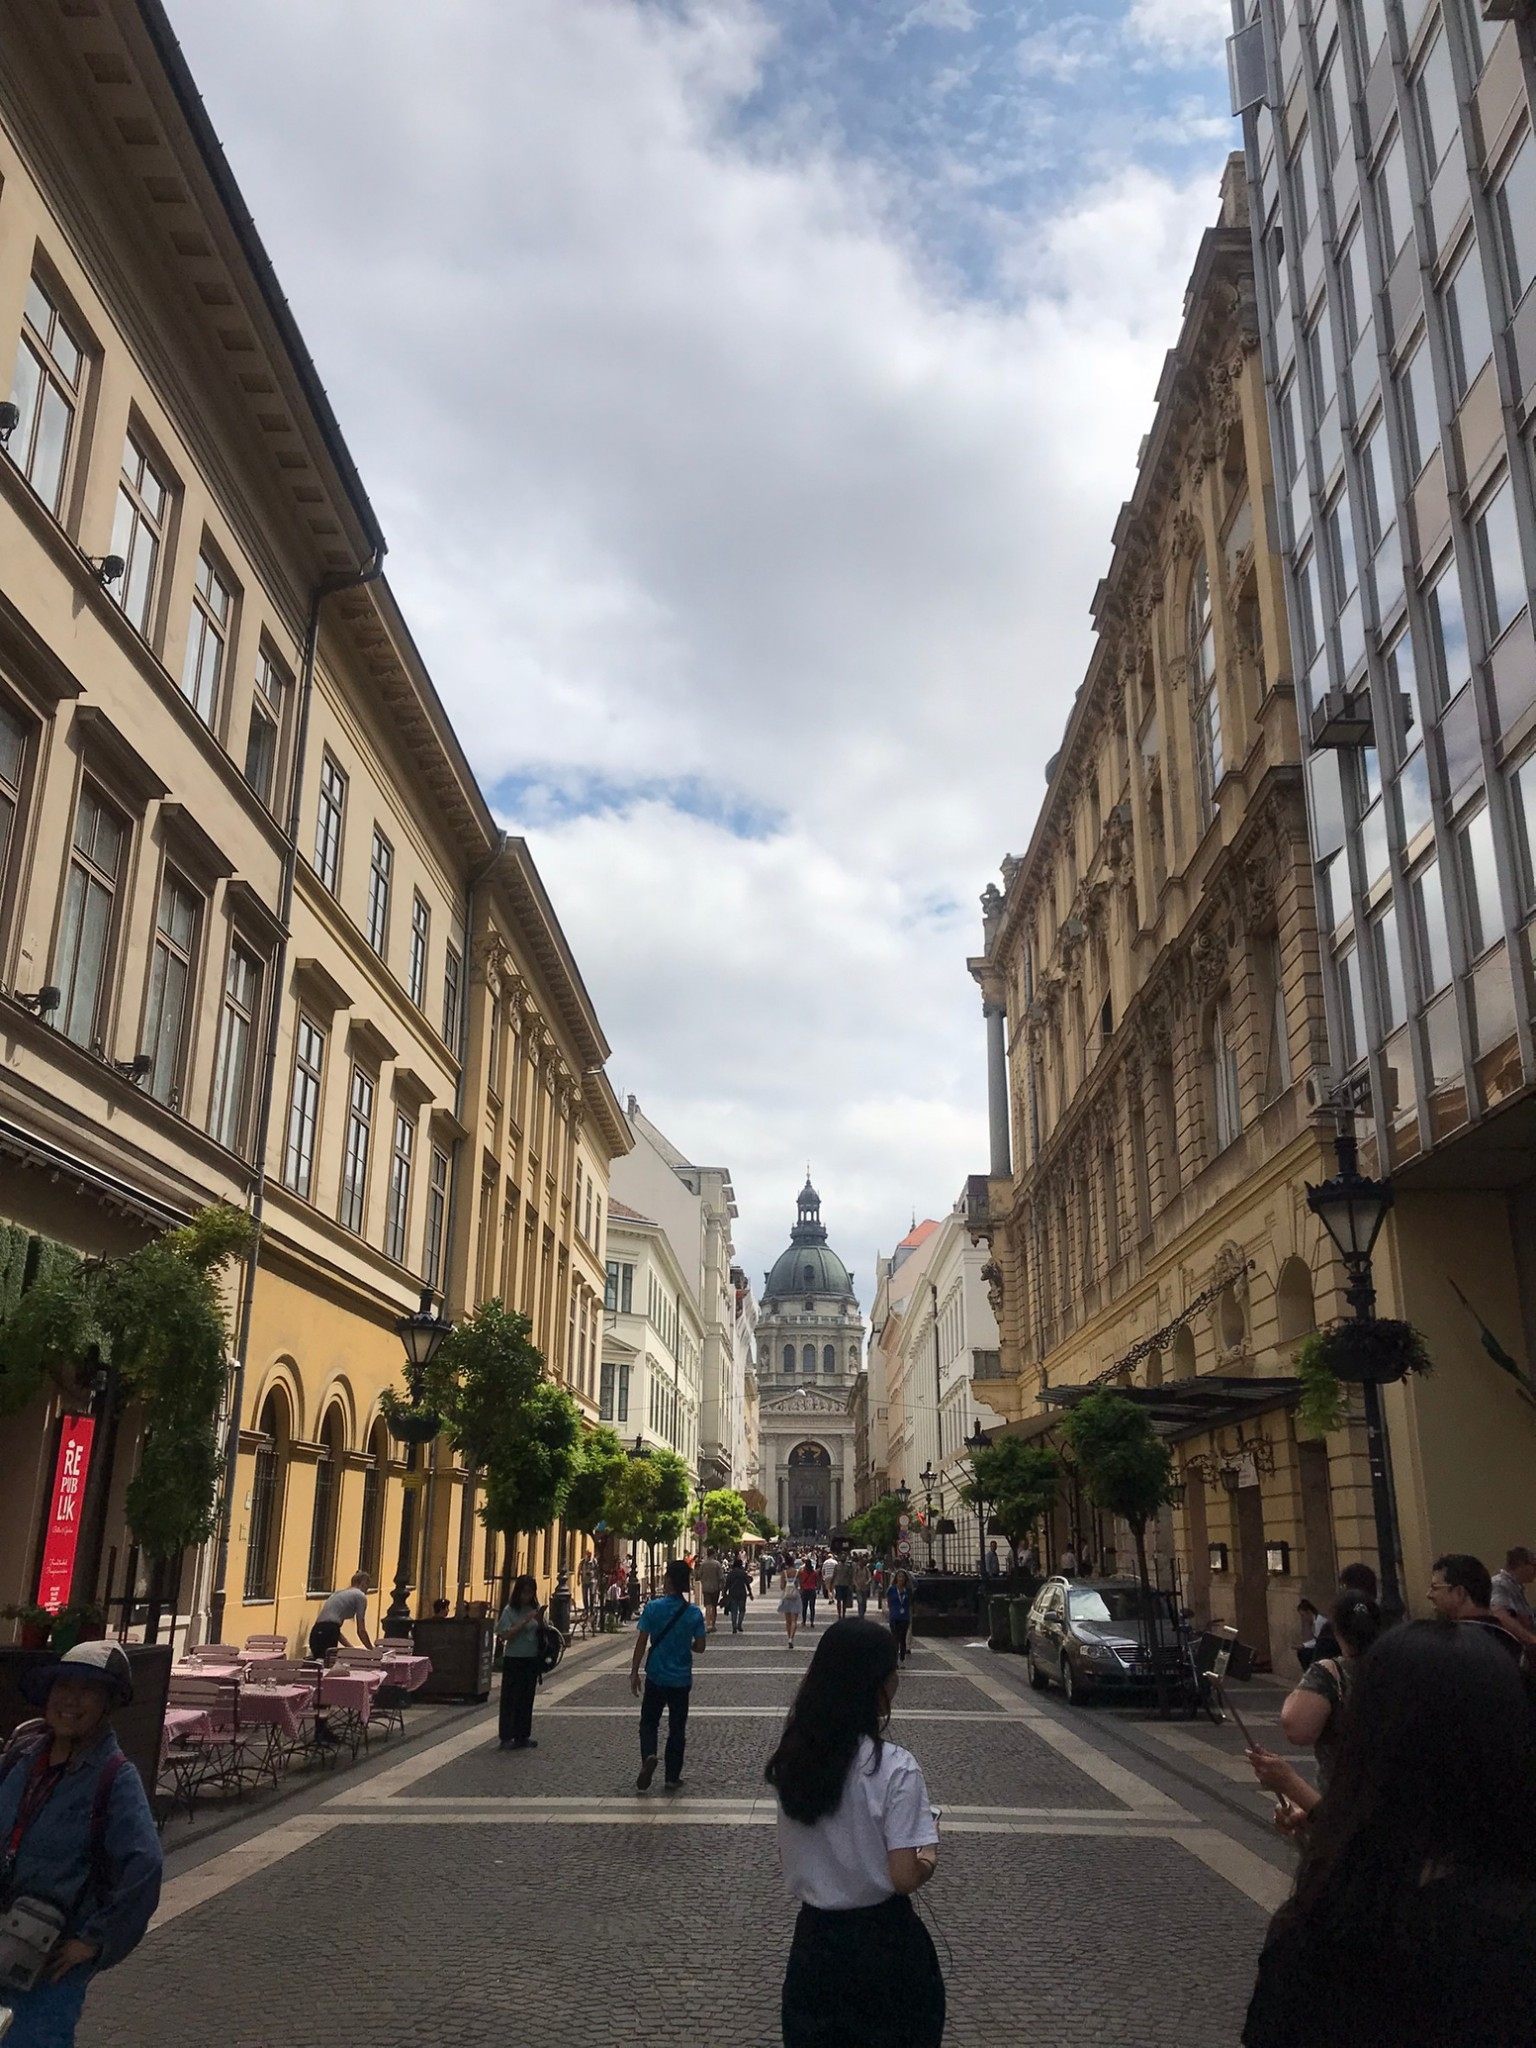people: (1298, 1622, 1536, 2048), (789, 1622, 953, 2048), (31, 1634, 169, 2044), (634, 1557, 711, 1793), (492, 1573, 556, 1754), (311, 1573, 373, 1673), (382, 1576, 431, 1676)
